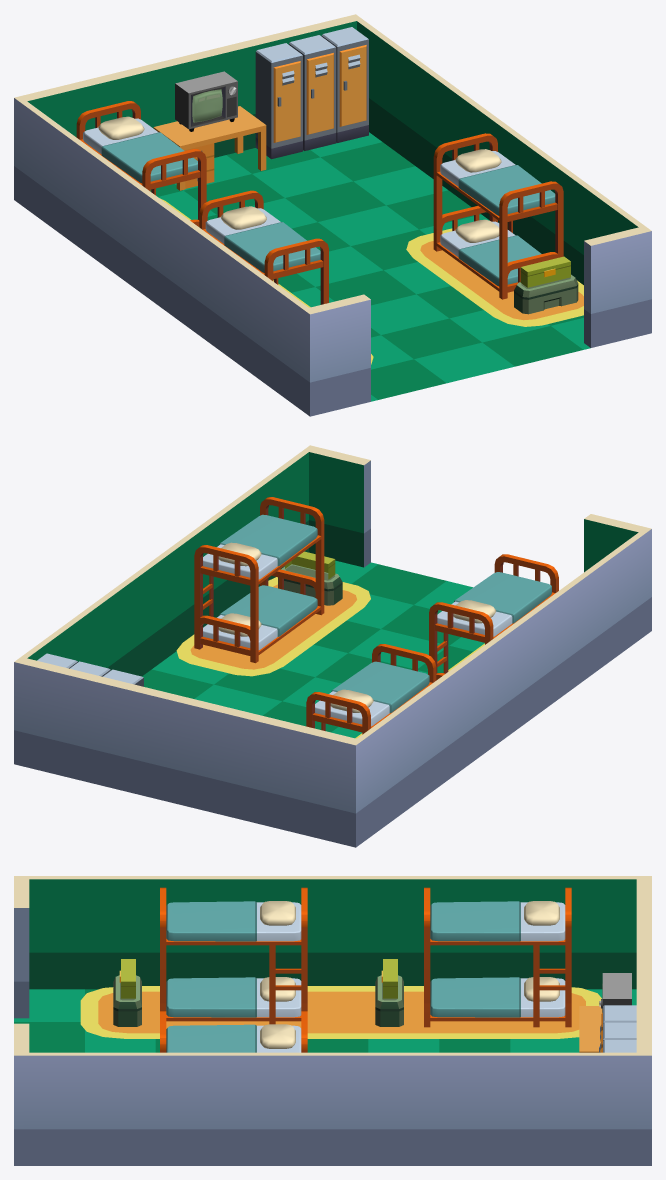
File: Barrack_Lv2_VIP.fbx
3 views of the same model, one above another, from view 1: azimuth 30°, elevation 25°; view 2: azimuth 150°, elevation 25°; view 3: azimuth 270°, elevation 25° (orthographic). The views are drawn at different scales.
Visible parts, largest first — view 1: unit127, wall_half4, wall_half5, Bed9, wall22, wall21, wall20, Bed8, Bed1, Table_TV, locket, Floor5 (+4 smaller); view 2: wall22, wall_half4, unit127, wall_half5, Bed9, Bed8, Bed1, wall21, Floor5, wall20, big_chest4; view 3: wall_half5, wall_half4, Bed1, Bed8, Floor4, unit127, wall22, Bed9, wall20, Table_TV, wall21, big_chest3 (+6 smaller).
Boxes of the visible parts, x1=… form: unit127: x1=150, y1=132, x2=590, y2=401; wall_half4: x1=14, y1=96, x2=310, y2=412; wall_half5: x1=351, y1=15, x2=646, y2=284; Bed9: x1=433, y1=133, x2=563, y2=299; wall22: x1=14, y1=14, x2=362, y2=203; wall21: x1=584, y1=227, x2=651, y2=347; wall20: x1=305, y1=294, x2=370, y2=416; Bed8: x1=199, y1=190, x2=328, y2=304; Bed1: x1=76, y1=101, x2=206, y2=226; Table_TV: x1=153, y1=71, x2=266, y2=190; locket: x1=255, y1=43, x2=302, y2=159; Floor5: x1=406, y1=228, x2=583, y2=326; wall22: x1=14, y1=657, x2=362, y2=845; wall_half4: x1=349, y1=530, x2=647, y2=847; unit127: x1=142, y1=560, x2=484, y2=738; wall_half5: x1=14, y1=448, x2=311, y2=676; Bed9: x1=194, y1=497, x2=324, y2=663; Bed8: x1=429, y1=554, x2=558, y2=680; Bed1: x1=306, y1=644, x2=436, y2=734; wall21: x1=306, y1=445, x2=370, y2=567; Floor5: x1=176, y1=577, x2=370, y2=676; wall20: x1=584, y1=514, x2=651, y2=633; big_chest4: x1=278, y1=564, x2=342, y2=605; wall_half5: x1=23, y1=1052, x2=651, y2=1165; wall_half4: x1=23, y1=876, x2=651, y2=989; Bed1: x1=424, y1=887, x2=571, y2=1027; Bed8: x1=160, y1=887, x2=307, y2=1024; Floor4: x1=80, y1=986, x2=601, y2=1038; unit127: x1=14, y1=989, x2=636, y2=1052; wall22: x1=636, y1=876, x2=651, y2=1165; Bed9: x1=160, y1=1011, x2=307, y2=1052; wall20: x1=14, y1=876, x2=29, y2=1018; Table_TV: x1=579, y1=973, x2=631, y2=1052; wall21: x1=14, y1=1023, x2=29, y2=1165; big_chest3: x1=375, y1=975, x2=403, y2=1026.
Bounding box in the file's own units: 700 × 212 × 1050.
